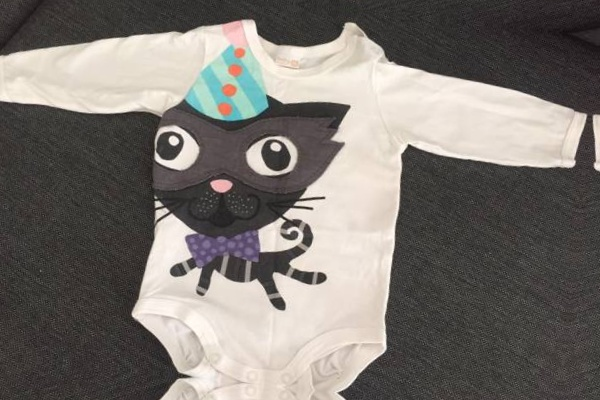Body: (0, 0, 587, 400), (0, 356, 546, 400), (0, 0, 600, 20), (569, 53, 600, 400)
